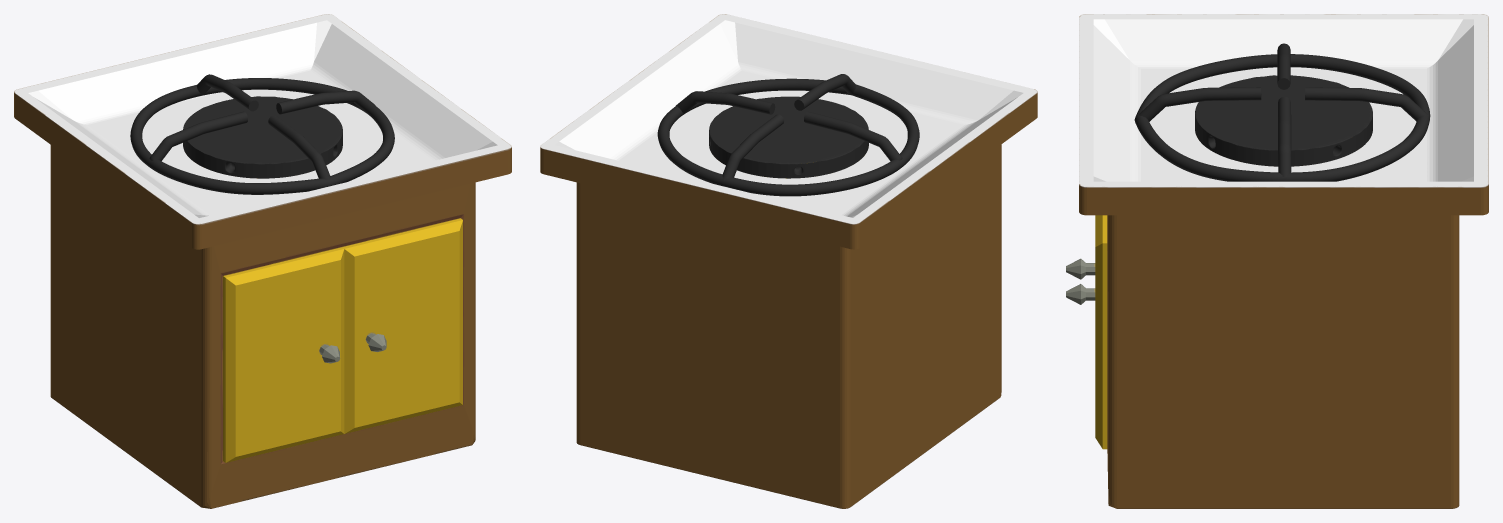
File: ocak.fbx
3 renders of one model, left to right at view 1: azimuth 30°, elevation 25°; view 2: azimuth 150°, elevation 25°; view 3: azimuth 270°, elevation 25°, orthographic. The views are drawn at different scales.
Parts seen in each view (by area): view 1: Cube; view 2: Cube; view 3: Cube.
Part boxes in pixels (left/top/right/bottom): Cube: left=14, top=14, right=511, bottom=508; Cube: left=540, top=14, right=1037, bottom=508; Cube: left=1066, top=14, right=1488, bottom=508.
Size of the model in its own units: 199 by 186 by 205.
